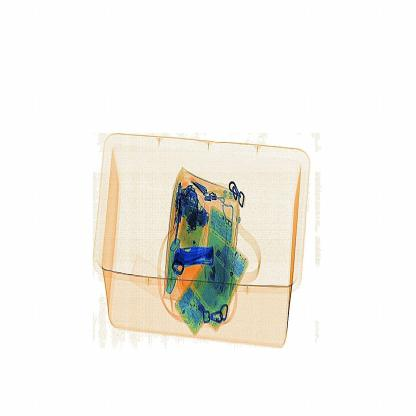knife: (171, 241, 217, 267)
